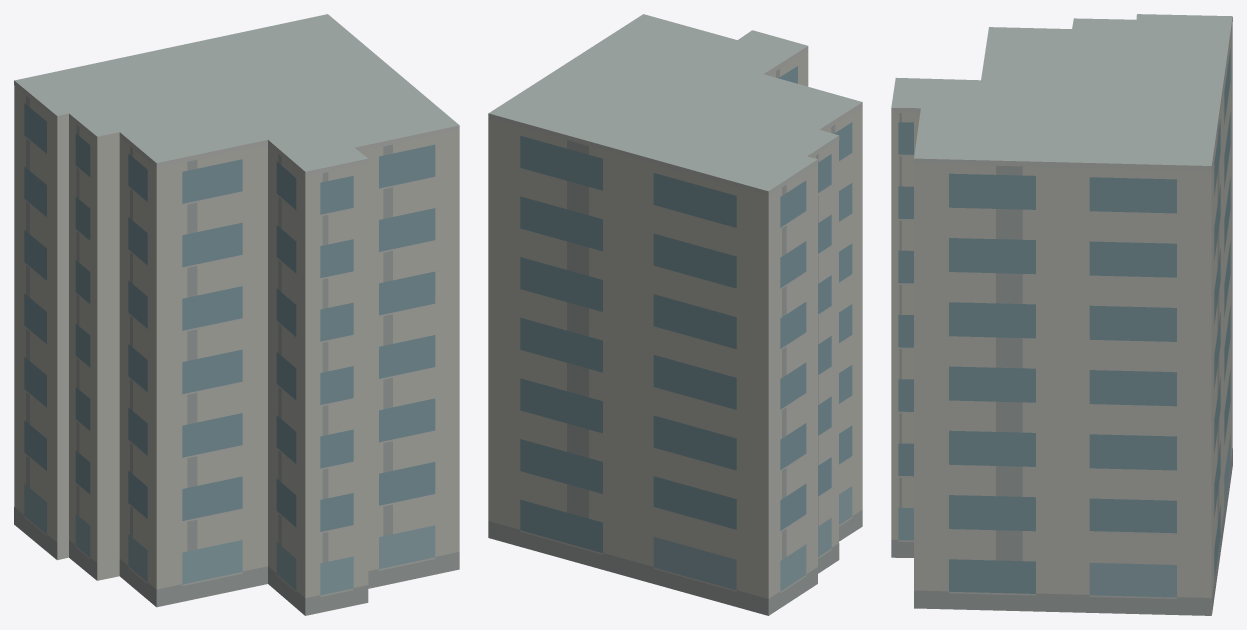
The model's file is survey-upis-32588216.glb.
3 views of the same model, side by side, from view 1: azimuth 30°, elevation 25°; view 2: azimuth 150°, elevation 25°; view 3: azimuth 270°, elevation 25° (orthographic). The views are drawn at different scales.
Parts seen in each view (by area): view 1: survey-upis-32588216.tmp; view 2: survey-upis-32588216.tmp; view 3: survey-upis-32588216.tmp.
Part boxes in pixels (bbox=[...]): survey-upis-32588216.tmp: bbox=[14, 14, 459, 615]; survey-upis-32588216.tmp: bbox=[488, 14, 862, 615]; survey-upis-32588216.tmp: bbox=[891, 14, 1232, 615].
Bounding box in the file's own units: 15.48 × 21.35 × 14.7.
